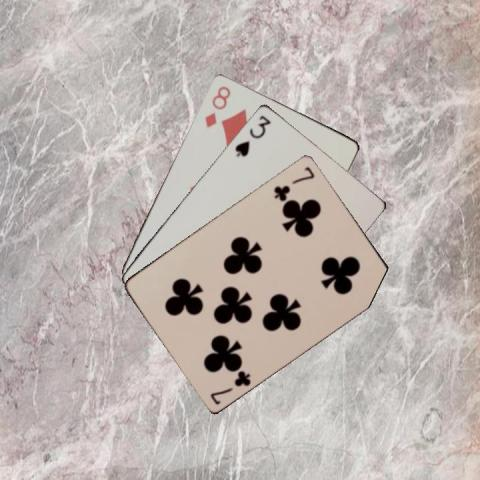3s: (231, 112, 272, 158)
7c: (207, 367, 253, 406), (271, 163, 316, 202)
8d: (201, 82, 232, 128)
